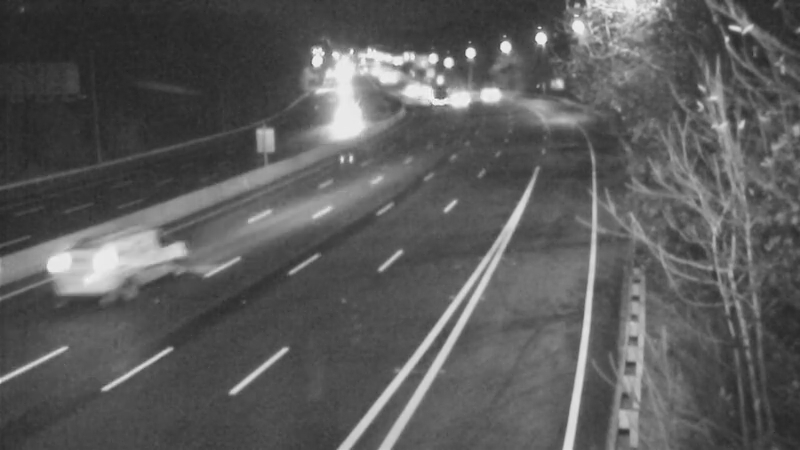vehicle: (49, 231, 129, 311), (407, 68, 457, 118), (436, 76, 486, 126), (462, 66, 512, 116), (319, 94, 369, 144)
